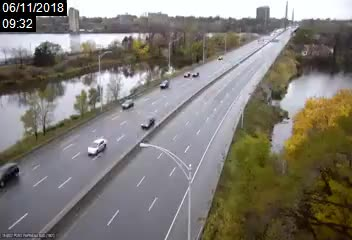personal_car: (1, 161, 19, 189), (86, 138, 107, 156), (141, 116, 155, 131), (121, 98, 134, 110), (159, 78, 168, 90), (192, 70, 200, 78), (183, 70, 190, 79), (217, 54, 224, 61)
